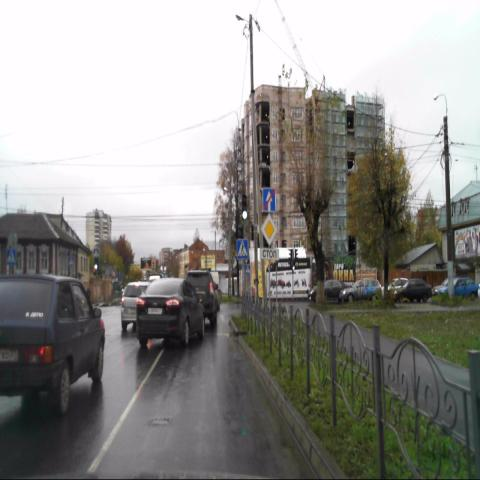5_6: (262, 188, 275, 212)
